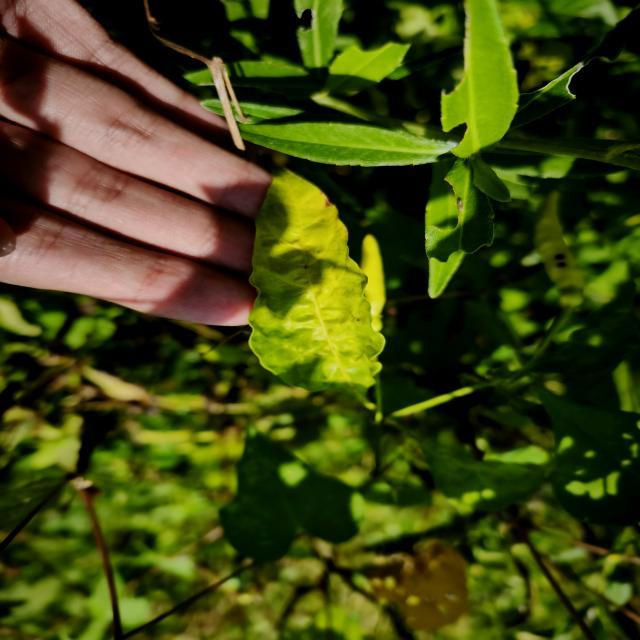Virus Kuning: (246, 167, 386, 396)
